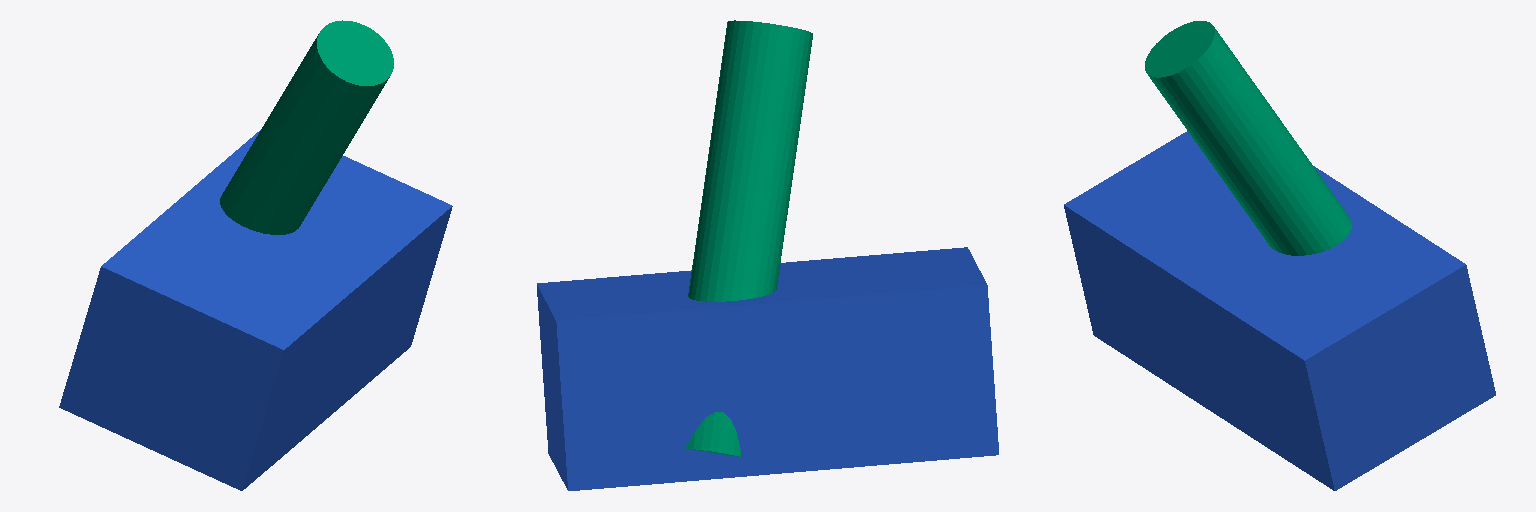
robot.urdf — exchange_fixture:
<robot name="exchange_fixture">
  <material name="blue"><color rgba="0.2 0.4 0.8 1"/></material>
  <link name="mount"/>
  <link name="base">
    <inertial><origin xyz="0.01 -0.02 0.03" rpy="0.2 -0.3 0.4"/><mass value="1"/><inertia ixx="0.03" iyy="0.04" izz="0.05" ixy="0.002" ixz="-0.001" iyz="0.003"/></inertial>
    <visual name="shell"><origin xyz="0.03 0 0.02" rpy="0.1 0.2 0.3"/><geometry><box size="0.2 0.1 0.08"/></geometry><material name="blue"/></visual>
    <collision><origin xyz="0.02 0 0"/><geometry><sphere radius="0.04"/></geometry></collision>
  </link>
  <link name="arm">
    <inertial><origin xyz="0.04 0.01 0" rpy="-0.2 0.1 0.3"/><mass value="0.2"/><inertia ixx="0.002" iyy="0.003" izz="0.004" ixy="0.0002" ixz="0" iyz="0.0001"/></inertial>
    <visual><geometry><cylinder radius="0.02" length="0.2"/></geometry></visual>
  </link>
  <link name="carriage"><inertial><mass value="0.1"/><inertia ixx="0.001" iyy="0.001" izz="0.001" ixy="0" ixz="0" iyz="0"/></inertial></link>
  <link name="wheel"><inertial><mass value="0.1"/><inertia ixx="0.001" iyy="0.001" izz="0.001" ixy="0" ixz="0" iyz="0"/></inertial></link>
  <joint name="mount_to_base" type="fixed"><parent link="mount"/><child link="base"/><origin xyz="0.1 0.2 0.3" rpy="0.2 -0.1 0.3"/></joint>
  <joint name="shoulder" type="revolute"><parent link="base"/><child link="arm"/><origin xyz="0.05 0.01 0.08" rpy="0.3 0.2 -0.4"/><axis xyz="0 1 0"/><limit lower="-0.7" upper="1.3" effort="12.5" velocity="2.4"/><dynamics damping="0.03" friction="0.01"/></joint>
  <joint name="slide" type="prismatic"><parent link="arm"/><child link="carriage"/><origin xyz="0.03 0 0" rpy="0.1 0.2 0"/><axis xyz="1 0 0"/><limit lower="-0.05" upper="0.12" effort="7" velocity="0.3"/></joint>
  <joint name="spin" type="continuous"><parent link="base"/><child link="wheel"/><origin xyz="0 -0.1 0.02" rpy="1.5707963267948966 0 0"/><axis xyz="0 0 1"/><limit effort="3" velocity="8"/></joint>
</robot>

--- Facts derived from the render (not from the file) ---
The picture shows the robot from 3 angles, left to right: view 1: azimuth 30°, elevation 25°; view 2: azimuth 150°, elevation 25°; view 3: azimuth 270°, elevation 25°; orthographic projection.
Model exchange_fixture with 5 links and 4 joints (1 revolute, 1 continuous, 1 prismatic, 1 fixed), rooted at mount, posed every joint at zero.
Visible links, largest first — view 1: base, arm; view 2: base, arm; view 3: base, arm.
Boxes of the visible links, x1=… form: base: x1=59, y1=130, x2=452, y2=490; arm: x1=220, y1=20, x2=393, y2=234; base: x1=537, y1=247, x2=998, y2=490; arm: x1=685, y1=20, x2=812, y2=456; base: x1=1064, y1=131, x2=1495, y2=490; arm: x1=1145, y1=21, x2=1351, y2=255.
Size in the robot's own frame: 0.2323 by 0.2111 by 0.2138 metres.
Geometry: primitives only (box / cylinder / sphere), no mesh files.
